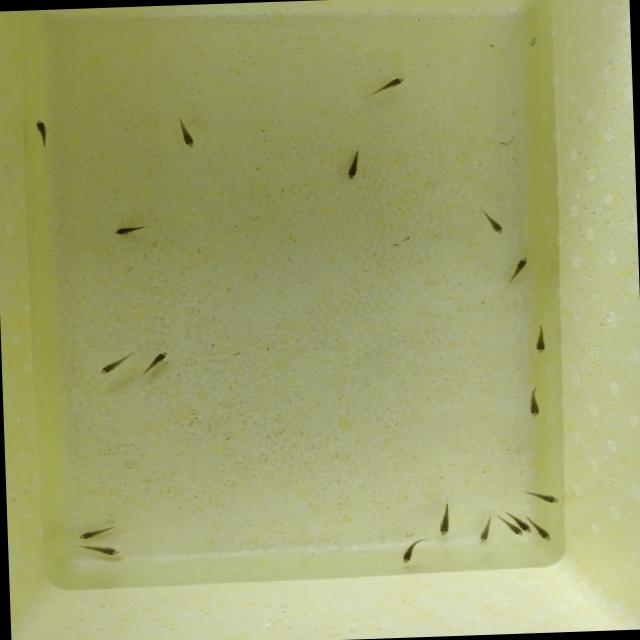fingerling: (528, 522, 558, 548), (94, 354, 126, 378), (74, 522, 108, 542), (174, 126, 202, 150), (144, 349, 176, 370), (88, 542, 125, 560), (110, 221, 144, 240), (433, 508, 454, 538), (530, 487, 562, 506), (484, 213, 506, 238), (508, 254, 529, 280), (526, 392, 546, 419), (376, 76, 406, 94), (343, 156, 362, 182), (33, 117, 51, 144), (532, 330, 552, 354), (478, 518, 494, 546), (397, 542, 419, 562), (504, 522, 524, 538), (517, 518, 533, 534)
